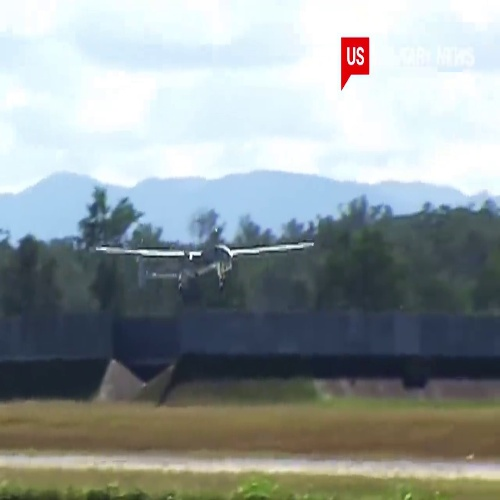uav339: (95, 231, 320, 291)
